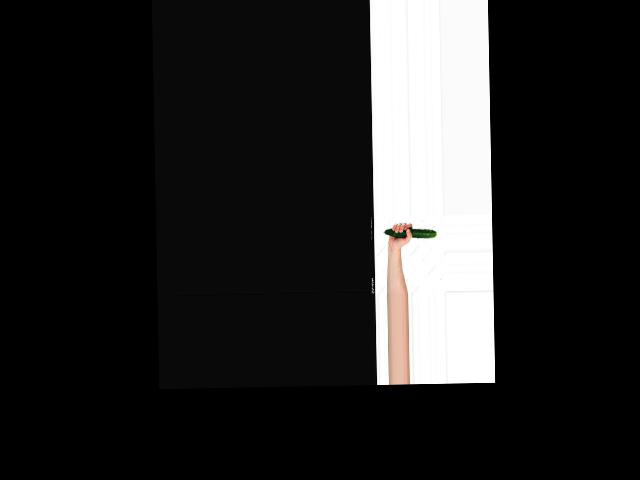cucumber: (383, 227, 436, 238)
